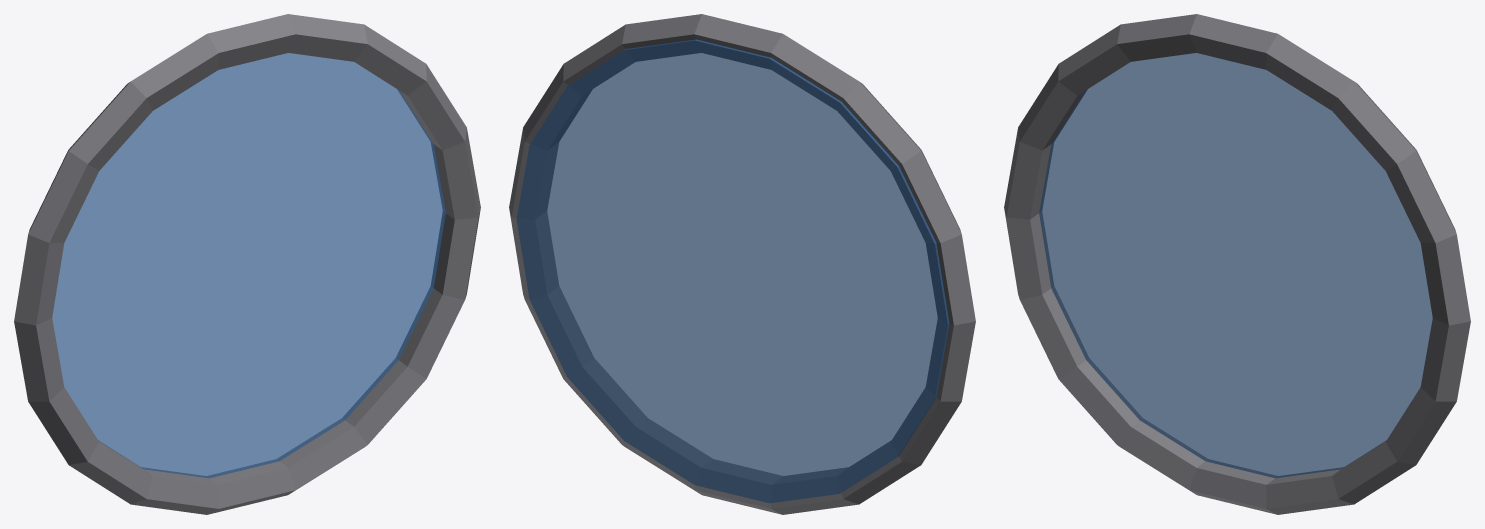
File: cave_dark_pool.glb
3 renders of one model, left to right at view 1: azimuth 30°, elevation 25°; view 2: azimuth 150°, elevation 25°; view 3: azimuth 330°, elevation 25°, orthographic.
Parts seen in each view (by area): view 1: pool, stone_rim; view 2: pool, stone_rim; view 3: pool, stone_rim.
Part boxes in pixels (x1=…): pool: x1=52, y1=53, x2=445, y2=478; stone_rim: x1=14, y1=14, x2=480, y2=514; pool: x1=516, y1=39, x2=949, y2=503; stone_rim: x1=509, y1=14, x2=975, y2=514; pool: x1=1039, y1=53, x2=1432, y2=478; stone_rim: x1=1004, y1=14, x2=1470, y2=514.
Bounding box in the file's own units: 1.84 × 1.81 × 0.1366.
